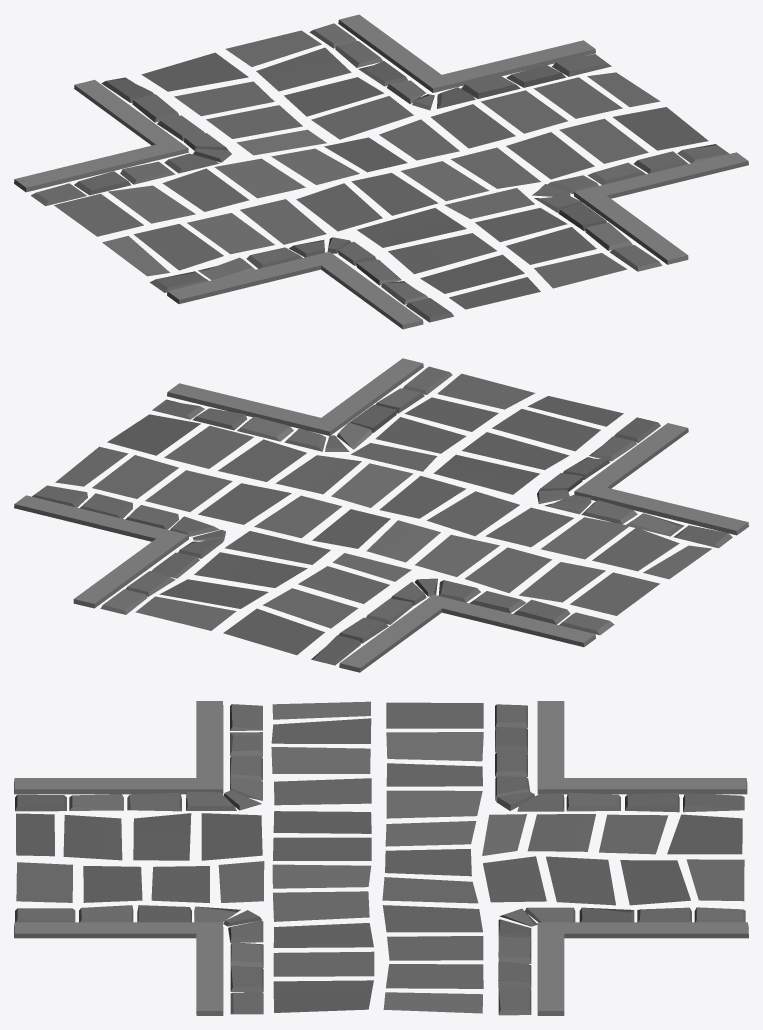
The model's file is Road Cobble Cross Short.glb.
3 renders of one model, top to bottom at view 1: azimuth 30°, elevation 25°; view 2: azimuth 150°, elevation 25°; view 3: azimuth 270°, elevation 25°, orthographic. The views are drawn at different scales.
Visible parts, largest first — view 1: RoadCobbleCrossShort; view 2: RoadCobbleCrossShort; view 3: RoadCobbleCrossShort.
Boxes of the visible parts, left/top/right/bottom form: RoadCobbleCrossShort: left=14, top=14, right=748, bottom=329; RoadCobbleCrossShort: left=14, top=358, right=748, bottom=672; RoadCobbleCrossShort: left=14, top=701, right=748, bottom=1015.
Size of what is drawn, in the model's own units: 4 by 0.0405 by 4.
Materials: 1 (1 with a texture image).
